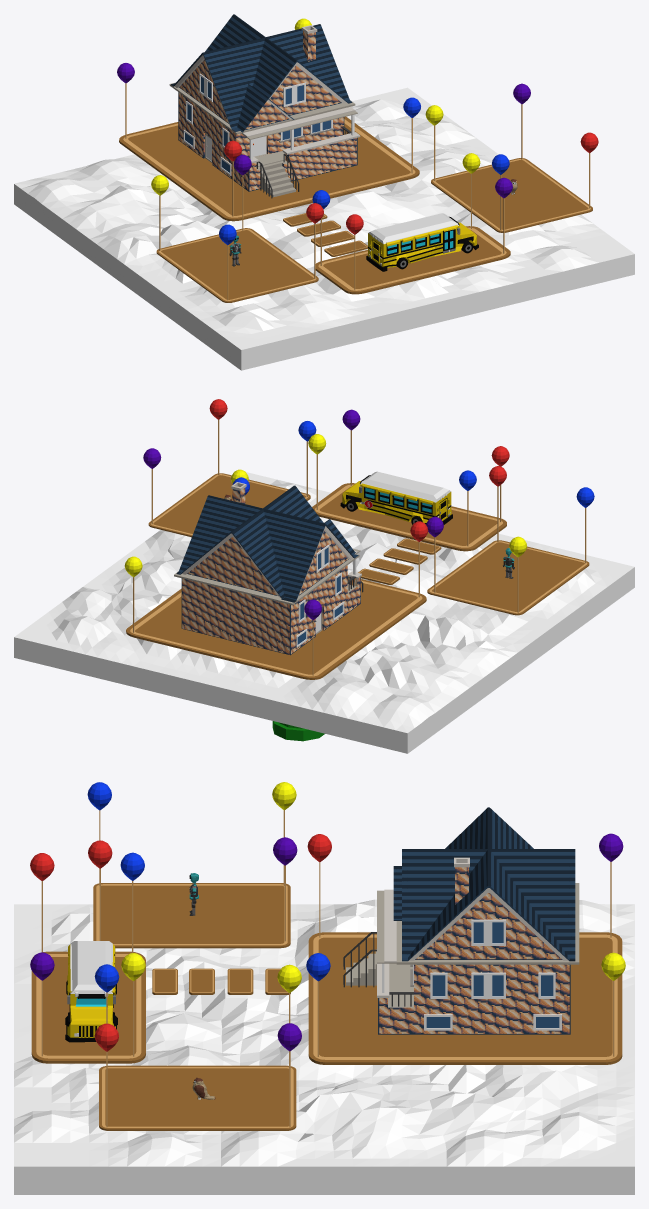
3 views of the same model, one above another, from view 1: azimuth 30°, elevation 25°; view 2: azimuth 150°, elevation 25°; view 3: azimuth 270°, elevation 25° (orthographic). The views are drawn at different scales.
Parts seen in each view (by area): view 1: Cube.013, Cube.430, VEHICLES_SCHOOL_BUS; view 2: Cube.013, Cube.430, VEHICLES_SCHOOL_BUS, UNDERGROUND_PIPES; view 3: Cube.013, Cube.430, VEHICLES_SCHOOL_BUS.
Boxes of the visible parts, bbox=[...] form: Cube.013: bbox=[14, 18, 634, 370]; Cube.430: bbox=[169, 14, 360, 198]; VEHICLES_SCHOOL_BUS: bbox=[366, 213, 478, 271]; Cube.013: bbox=[14, 399, 634, 753]; Cube.430: bbox=[174, 482, 363, 655]; VEHICLES_SCHOOL_BUS: bbox=[340, 471, 452, 524]; UNDERGROUND_PIPES: bbox=[272, 721, 324, 741]; Cube.013: bbox=[14, 782, 634, 1194]; Cube.430: bbox=[343, 807, 579, 1034]; VEHICLES_SCHOOL_BUS: bbox=[65, 941, 117, 1042].
Bounding box in the file's own units: 4000 × 2271 × 4000.
Materials: 39 (2 with a texture image).
